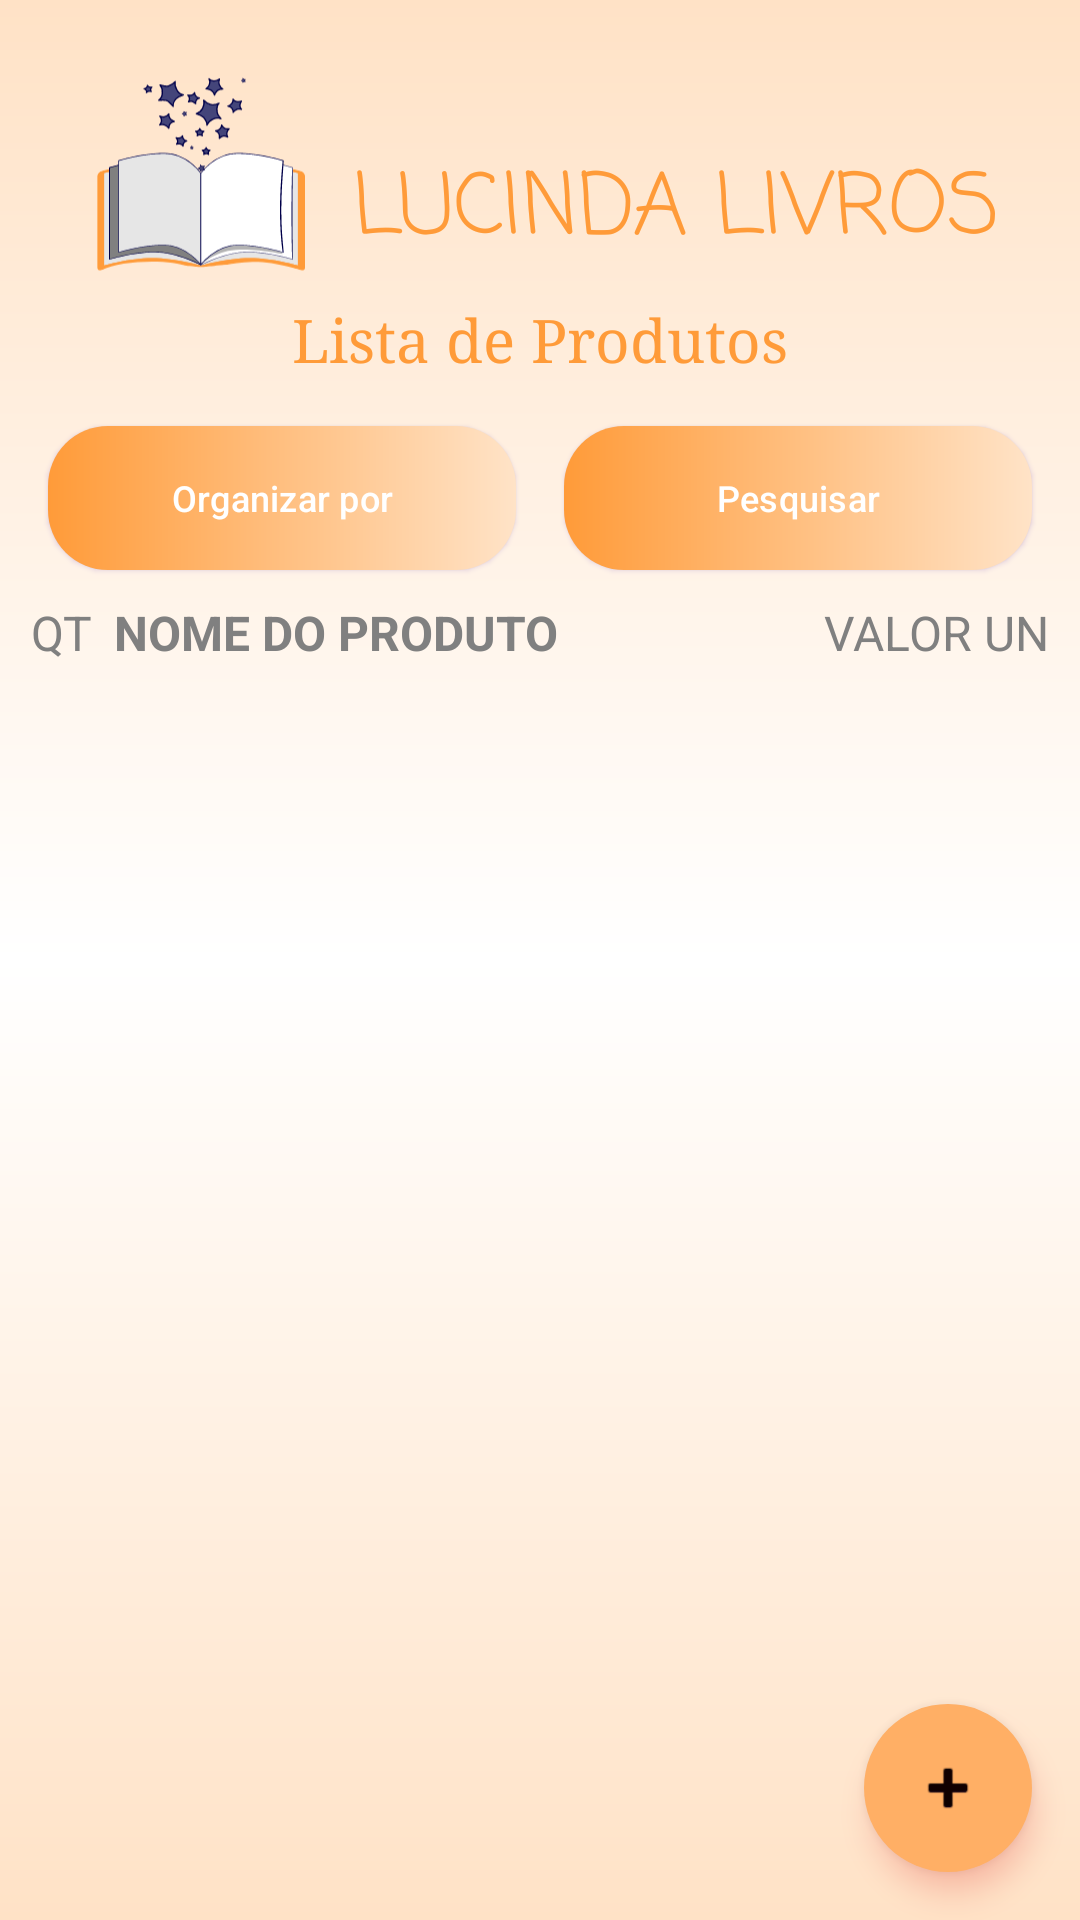

Named icons in this screenshot (1080 x 1920) and their centers, point (x, y):
book: point (201, 174)
